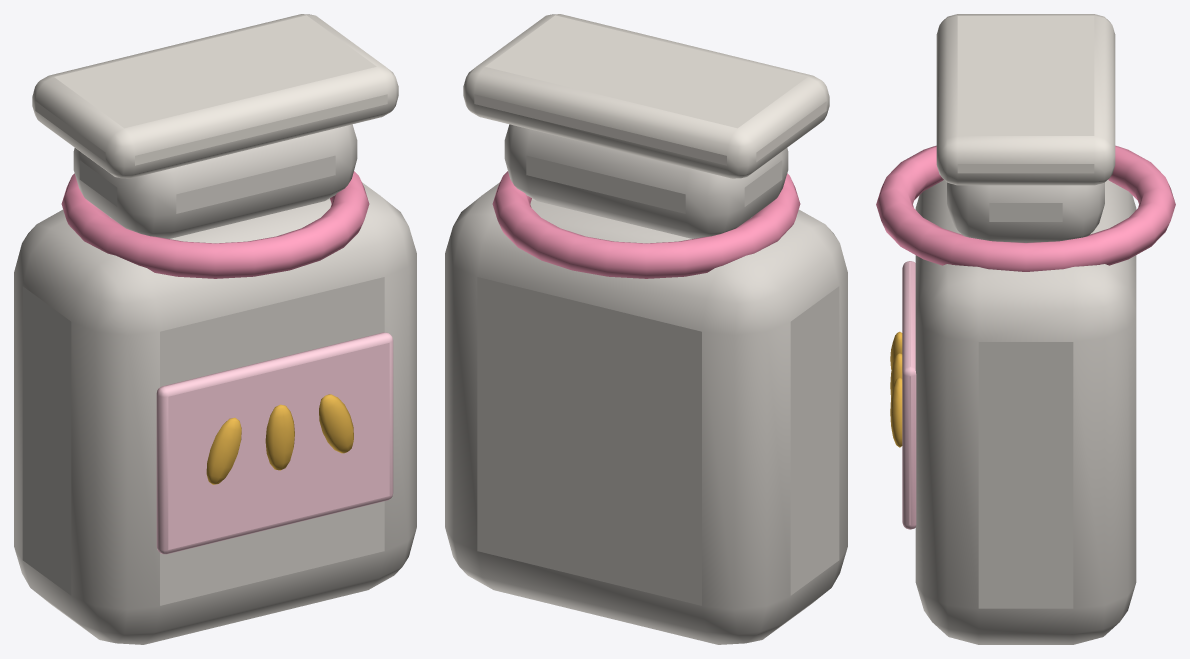
The model's file is flour.glb.
3 views of the same model, side by side, from view 1: azimuth 30°, elevation 25°; view 2: azimuth 150°, elevation 25°; view 3: azimuth 270°, elevation 25° (orthographic). The views are drawn at different scales.
Visible parts, largest first — view 1: cfffaf3, frill, label, tie, ce8b64a; view 2: cfffaf3, frill, tie; view 3: cfffaf3, frill, tie, label, ce8b64a.
Part boxes in pixels (bbox=[...]): cfffaf3: bbox=[14, 124, 416, 644]; frill: bbox=[32, 14, 398, 178]; label: bbox=[156, 332, 393, 554]; tie: bbox=[61, 171, 369, 278]; ce8b64a: bbox=[206, 394, 353, 484]; cfffaf3: bbox=[445, 124, 847, 644]; frill: bbox=[463, 14, 829, 178]; tie: bbox=[492, 171, 800, 278]; cfffaf3: bbox=[915, 180, 1136, 644]; frill: bbox=[936, 14, 1115, 185]; tie: bbox=[876, 145, 1175, 271]; label: bbox=[902, 261, 916, 529]; ce8b64a: bbox=[890, 331, 902, 447].
Size of the model in its own units: 0.72 by 1.07 by 0.57.
